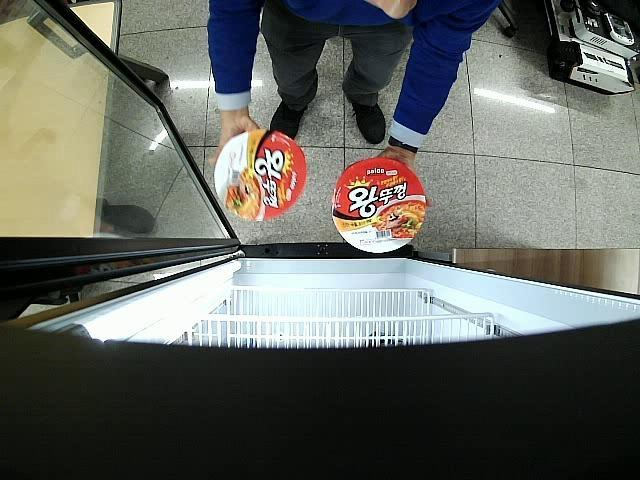10_wangTtukkeong: (332, 158, 426, 252), (214, 131, 306, 221)
